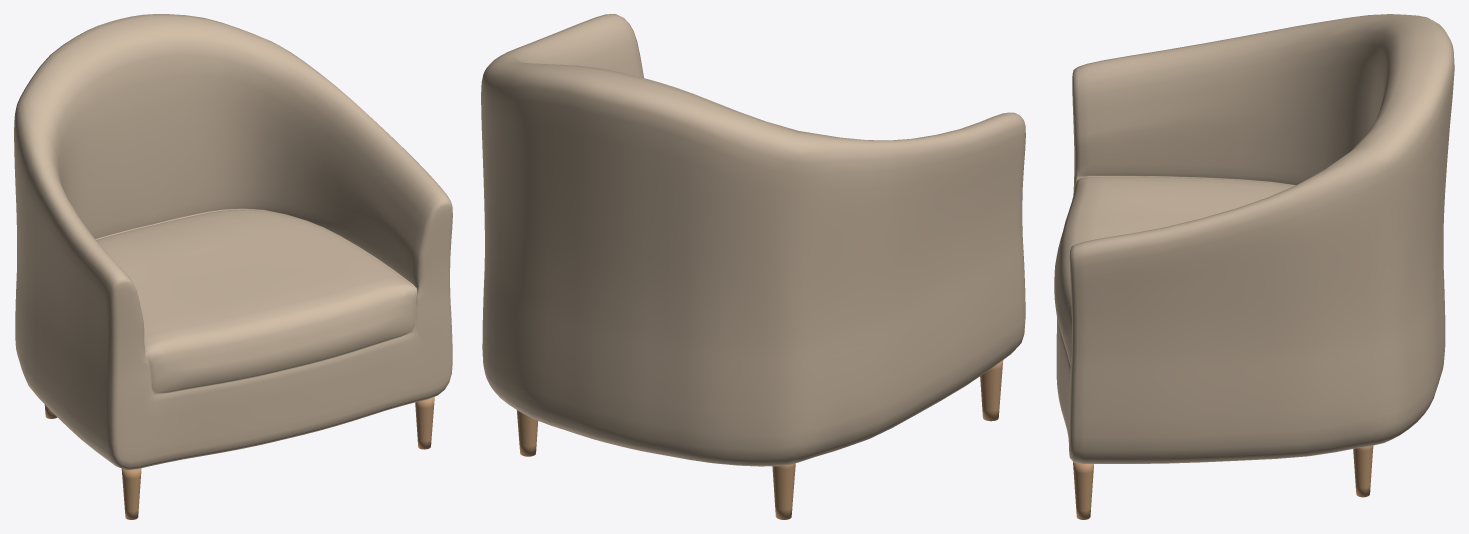
File: sofa1#21.fbx
3 views of the same model, side by side, from view 1: azimuth 30°, elevation 25°; view 2: azimuth 150°, elevation 25°; view 3: azimuth 270°, elevation 25° (orthographic). The views are drawn at different scales.
Visible parts, largest first — view 1: Loft02, Object01; view 2: Loft02, Object01; view 3: Loft02, Object01.
Boxes of the visible parts, x1,y1,x2,y2 form: Loft02: (14,14,452,470); Object01: (44,397,434,519); Loft02: (481,14,1025,466); Object01: (517,360,1003,519); Loft02: (1054,14,1454,463); Object01: (1073,445,1373,519).
Size of the model in its own units: 1.99 by 1.92 by 1.78.
